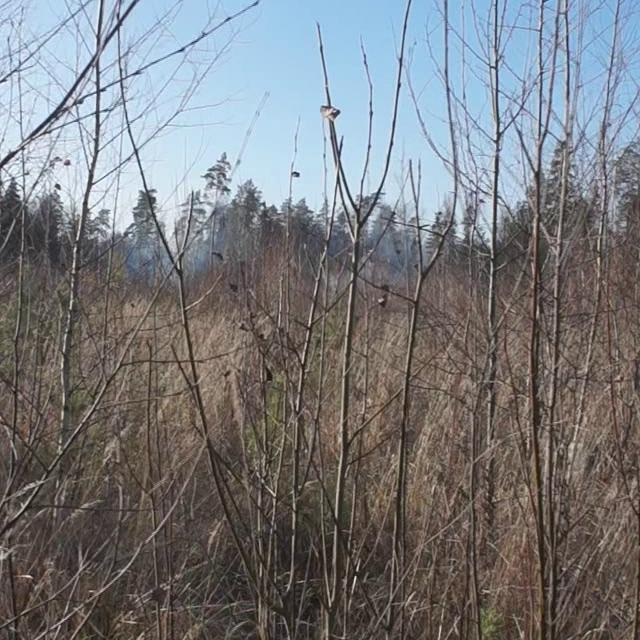Smoke: (121, 214, 232, 288), (363, 224, 438, 284)
